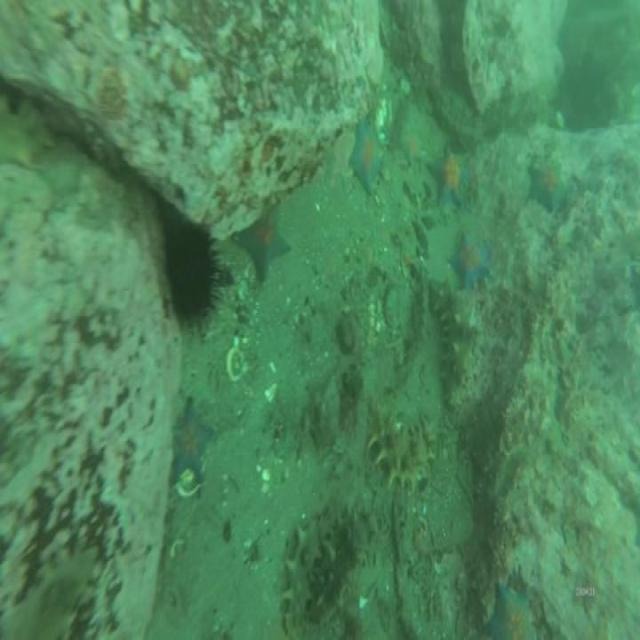echinus: (166, 234, 213, 327)
holothurian: (322, 515, 383, 629), (432, 288, 482, 403), (372, 411, 434, 485), (279, 523, 321, 632)
scallop: (376, 98, 395, 145), (179, 466, 198, 496)
starfish: (236, 218, 292, 283), (175, 406, 213, 484), (487, 586, 533, 640), (430, 148, 470, 206), (350, 126, 382, 196), (453, 235, 491, 288), (530, 160, 568, 210)
